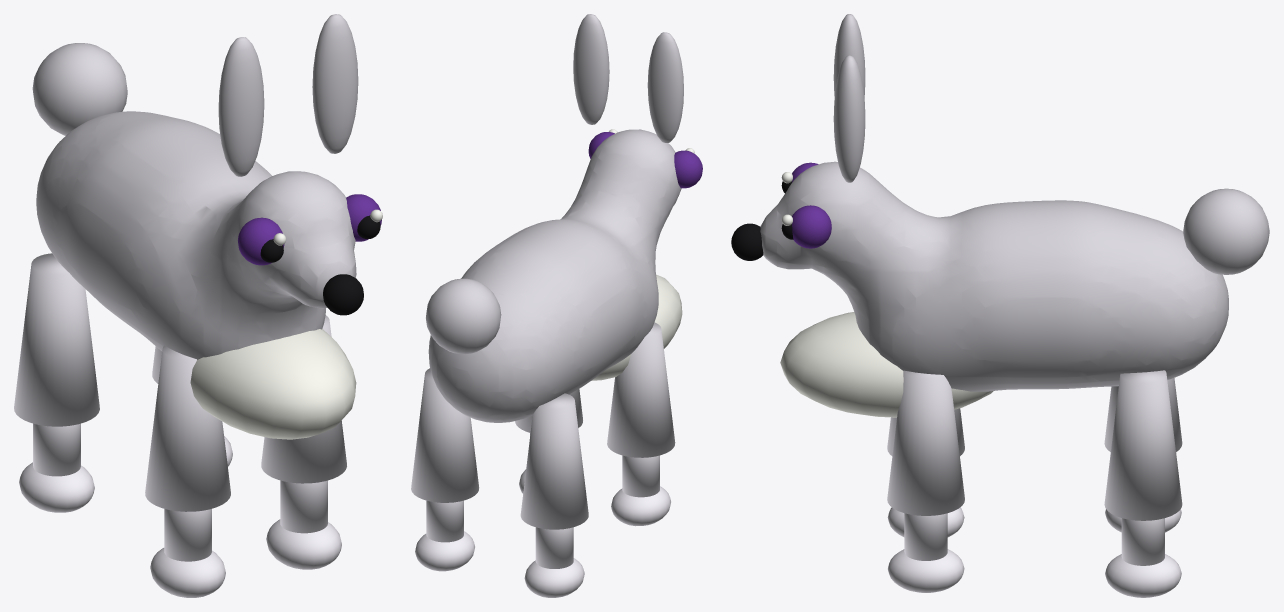
File: Bunny.obj
The picture shows the model from 3 angles, left to right: view 1: azimuth 30°, elevation 25°; view 2: azimuth 150°, elevation 25°; view 3: azimuth 270°, elevation 25°; orthographic projection. The views are drawn at different scales.
Visible parts, largest first — view 1: Bunny; view 2: Bunny; view 3: Bunny.
Boxes of the visible parts, x1,y1,x2,y2 form: Bunny: [14, 14, 382, 597]; Bunny: [411, 14, 702, 597]; Bunny: [731, 14, 1269, 597].
Bounding box in the file's own units: 1.54 × 4.04 × 3.73.
